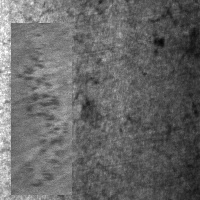crazing: (2, 54, 119, 172)
rolled-in_scale: (11, 23, 72, 195)
